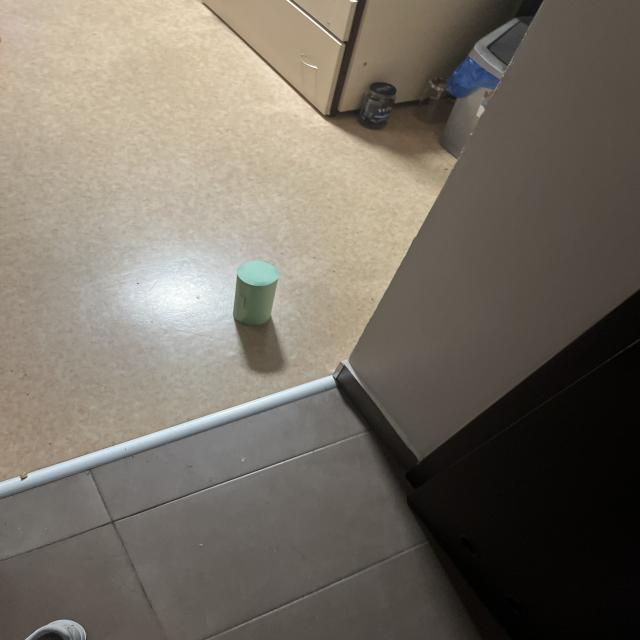meta: (233, 261, 279, 325)
